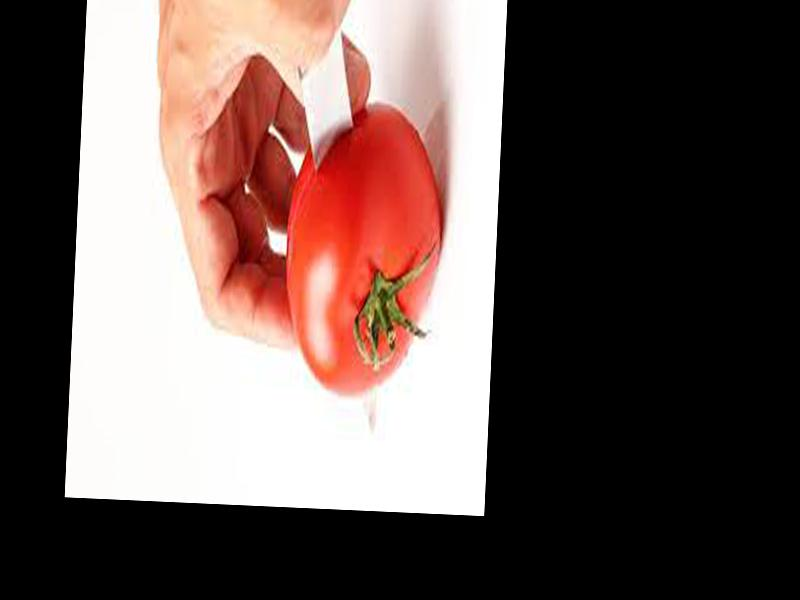Tomato: (279, 100, 446, 394)
